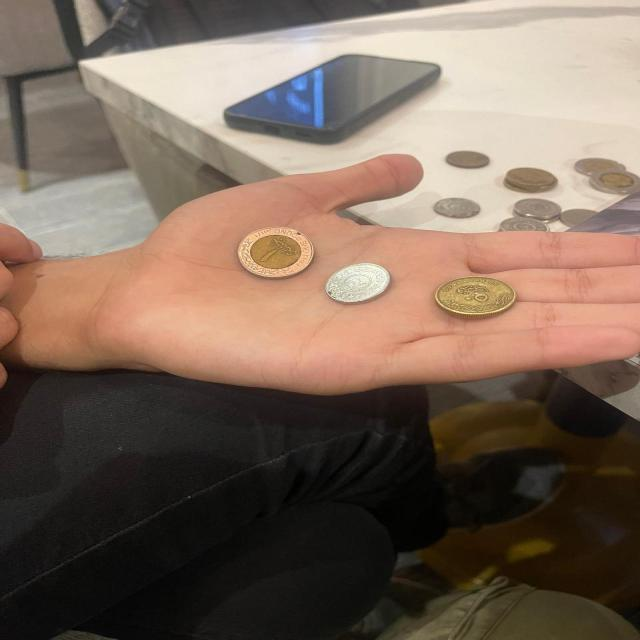Half Pound: (426, 272, 520, 321), (503, 167, 558, 193), (574, 157, 623, 176), (446, 150, 490, 168)
One Pound: (234, 225, 318, 277), (590, 170, 640, 194)
quarter pound: (321, 260, 394, 306), (514, 198, 561, 220), (434, 198, 478, 218), (560, 208, 598, 228), (499, 217, 549, 232)
